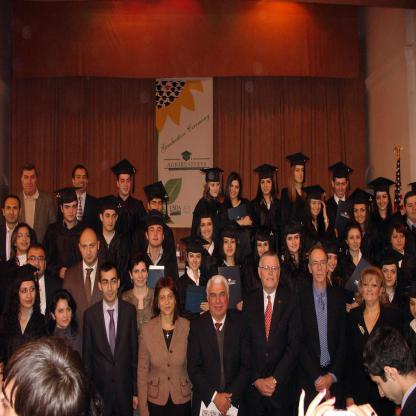face: (369, 360, 403, 405), (209, 283, 229, 316), (102, 272, 119, 302), (28, 248, 46, 276), (311, 252, 327, 283), (82, 233, 98, 264), (262, 259, 279, 288), (56, 298, 73, 327), (159, 286, 176, 315), (20, 280, 37, 308), (363, 276, 381, 302), (133, 261, 148, 287), (5, 198, 20, 223), (149, 223, 164, 246), (23, 170, 37, 194), (382, 265, 398, 286), (64, 199, 78, 222), (348, 229, 362, 251), (17, 228, 31, 250), (392, 230, 406, 251), (335, 174, 347, 198), (75, 170, 88, 192), (104, 209, 117, 231), (189, 250, 203, 270), (120, 173, 132, 195), (201, 218, 213, 240), (224, 237, 237, 257), (287, 232, 300, 252), (406, 196, 416, 221), (377, 191, 389, 211), (355, 204, 367, 224), (210, 177, 221, 198), (151, 198, 163, 217), (258, 240, 270, 259), (261, 177, 273, 195), (328, 252, 338, 273), (230, 180, 241, 199), (295, 163, 305, 183), (311, 198, 321, 216), (411, 297, 416, 320)
